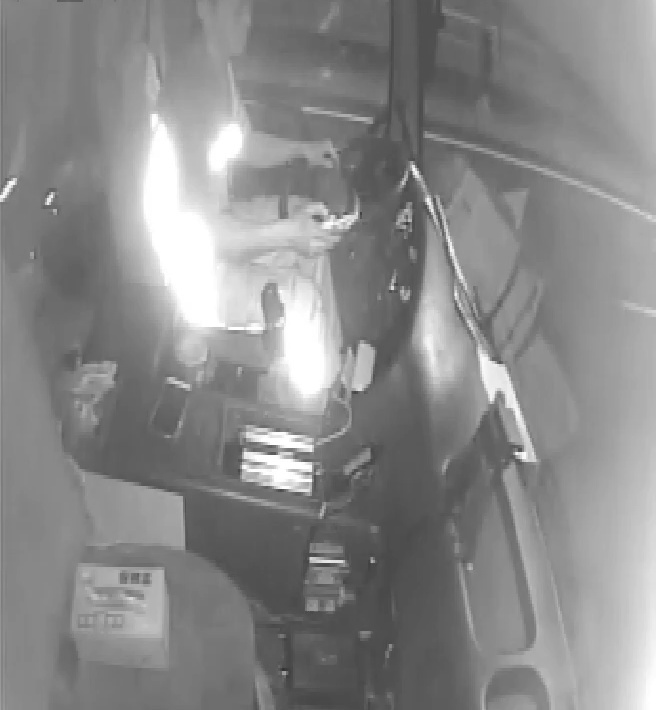cellphone: (302, 203, 355, 243)
